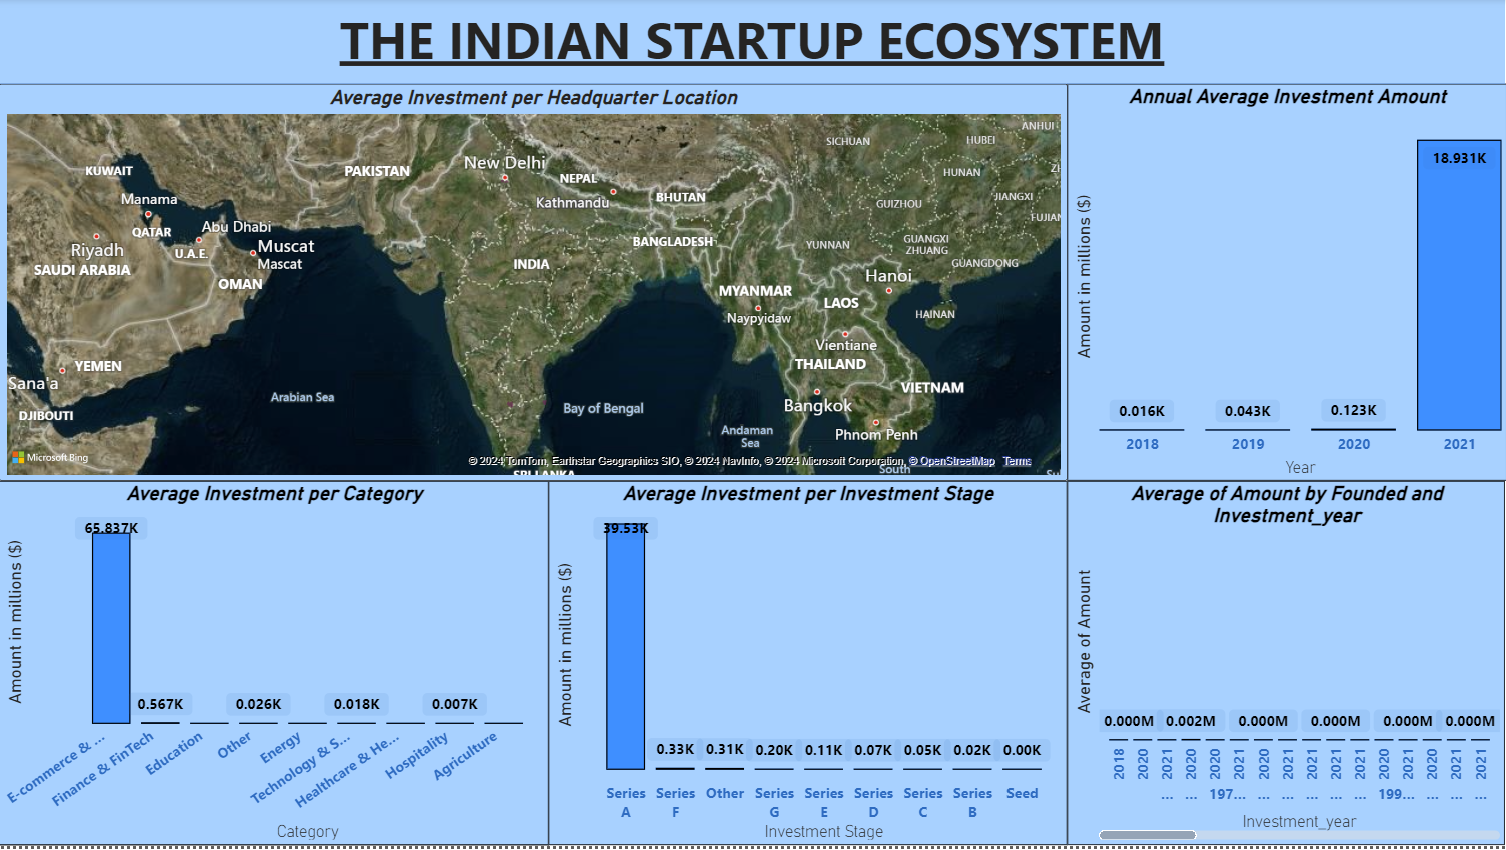

The page's visual inventory and layout, read from the dashboard file:
{"tool":"powerbi","page":{"name":"Page 1","canvas":[1280,720],"ordinal":0},"visuals":[{"type":"filledMap","title":"Average Investment per Headquarter Location","fields":{"Category":["combined123.Headquarter_City"]},"box":[0,72.8,906.7,337.4],"z":0},{"type":"columnChart","title":"Average Investment per  Category","fields":{"Category":["combined123.Category"],"Y":["Avg(combined123.Amount)"]},"box":[0,410.2,466.7,309.2],"z":1000},{"type":"columnChart","title":"Average Investment per Investment Stage","fields":{"Category":["combined123.Categorised_stage"],"Y":["Avg(combined123.Amount)"]},"box":[466.7,410.2,440,309.2],"z":2000},{"type":"columnChart","title":"Annual Average Investment Amount ","fields":{"Y":["Avg(combined123.Amount)"],"Category":["combined123.Investment_year"]},"box":[906.7,72.8,373.1,337.4],"z":3000},{"type":"columnChart","fields":{"Category":["combined123.Founded","combined123.Investment_year"],"Y":["Avg(combined123.Amount)"]},"box":[906.7,410.2,371.6,309.2],"z":4000},{"type":"shape","box":[0,0,1278.3,72.8],"z":5000},{"type":"textbox","box":[0,0,1278.3,72.8],"z":6500}]}

Visuals, with their boxes in screenshot pixels (x1, y1, x2, y2), scaled from the page's 1280x720 canvas onto the 1506x850 screenshot:
"Average Investment per Headquarter Location" filledMap: left=0, top=86, right=1067, bottom=484
"Average Investment per  Category" columnChart: left=0, top=484, right=549, bottom=849
"Average Investment per Investment Stage" columnChart: left=549, top=484, right=1067, bottom=849
"Annual Average Investment Amount " columnChart: left=1067, top=86, right=1505, bottom=484
columnChart - combined123.Founded x combined123.Investment_year: left=1067, top=484, right=1504, bottom=849
shape: left=0, top=0, right=1504, bottom=86
textbox: left=0, top=0, right=1504, bottom=86
